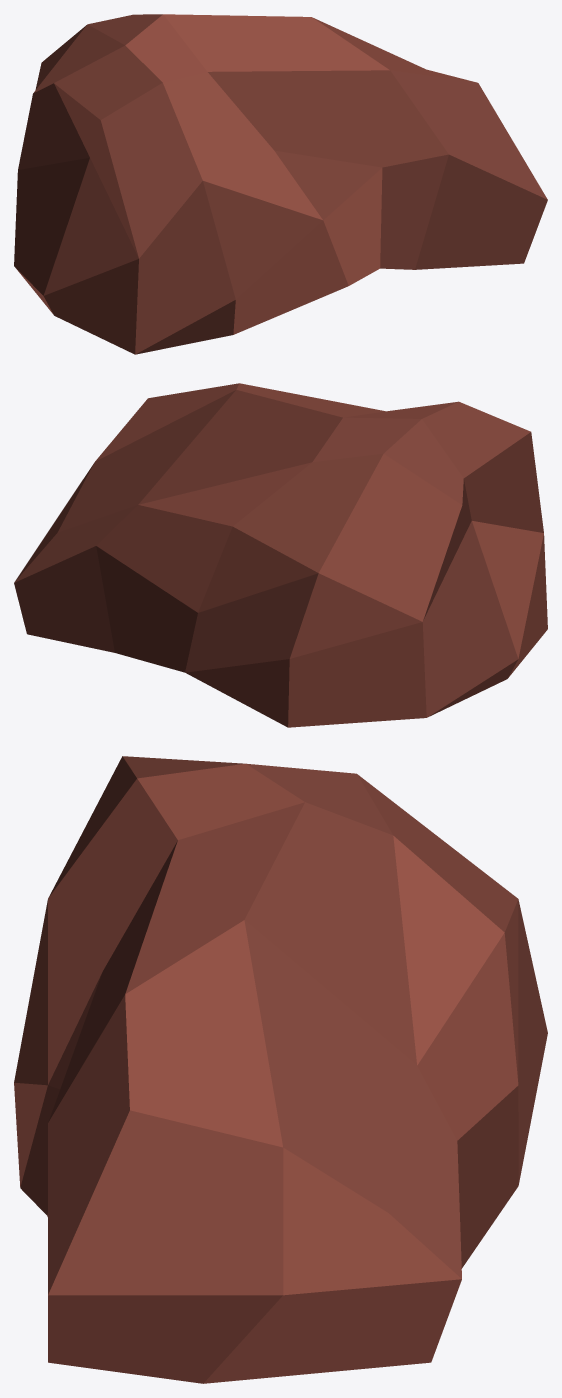
The model's file is Stone_2_Red.fbx.
The picture shows the model from 3 angles, top to bottom: view 1: azimuth 30°, elevation 25°; view 2: azimuth 150°, elevation 25°; view 3: azimuth 270°, elevation 25°; orthographic projection. The views are drawn at different scales.
Visible parts, largest first — view 1: Stone_2_Red_Part_1, Stone_2_Red_Part_2; view 2: Stone_2_Red_Part_1, Stone_2_Red_Part_2; view 3: Stone_2_Red_Part_2, Stone_2_Red_Part_1.
Part boxes in pixels (box(x1,y1,x2,y2)): Stone_2_Red_Part_1: box(14, 14, 547, 354); Stone_2_Red_Part_2: box(16, 14, 476, 354); Stone_2_Red_Part_1: box(14, 390, 530, 717); Stone_2_Red_Part_2: box(15, 383, 547, 727); Stone_2_Red_Part_2: box(14, 763, 518, 1383); Stone_2_Red_Part_1: box(14, 756, 547, 1294).
Size of the model in its own units: 187 by 99.45 by 131.
